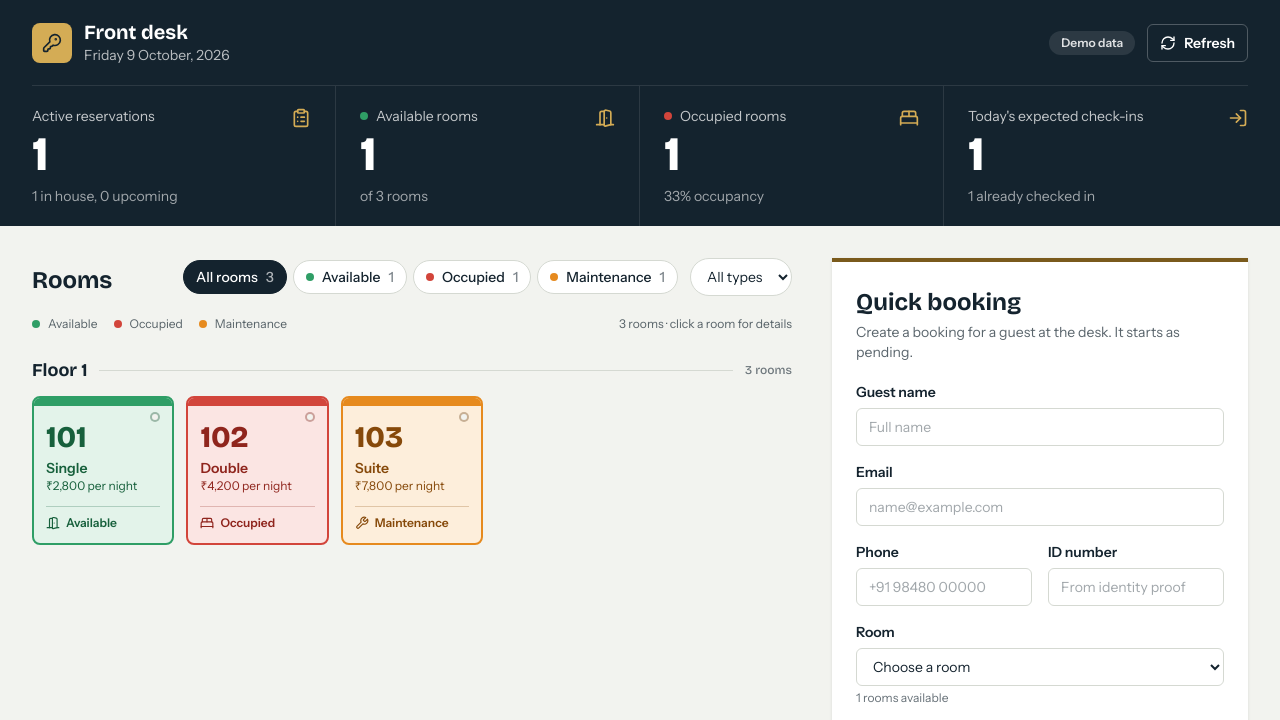
Test: front desk dashboard › filters rooms by availability and can clear the selection
The width and height of the screenshot is (1280, 720).
Expected: the button with aria-label "room 101, single, available" is shown, x1=32 y1=396 x2=174 y2=545
Click the button "Available 1".
click(350, 277)  # box x1=293 y1=260 x2=407 y2=294
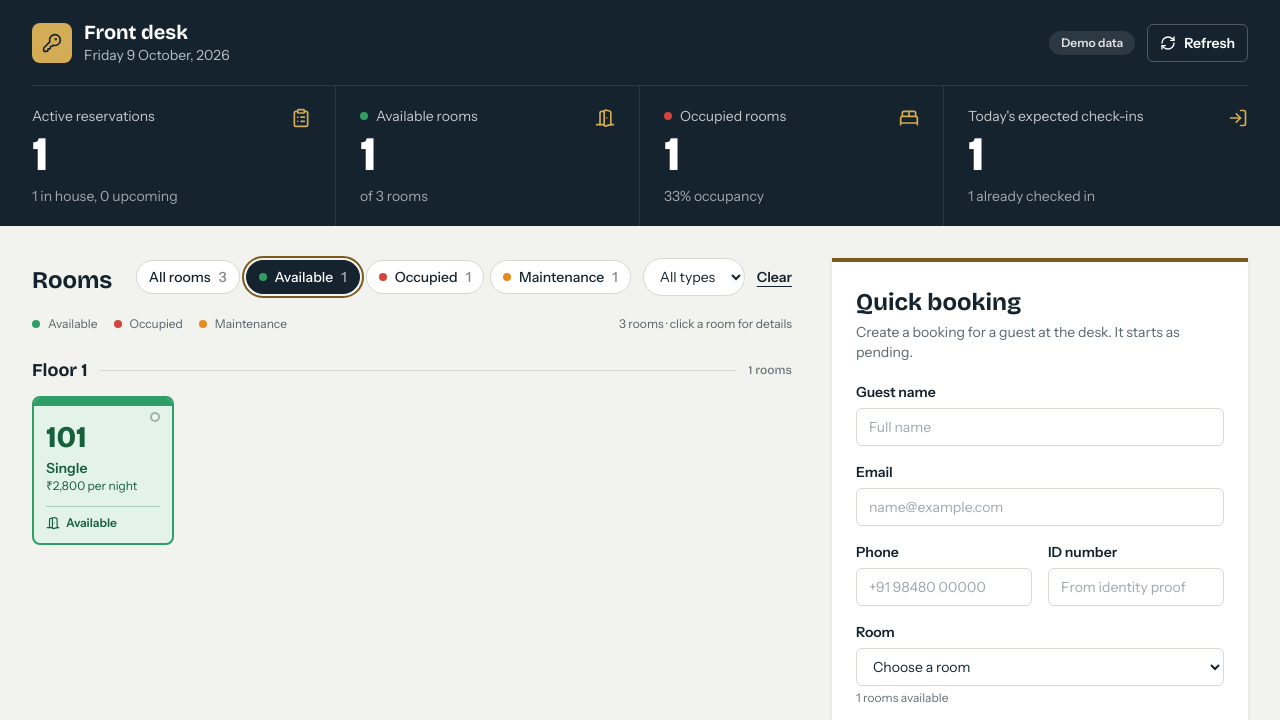
Expected: the button with aria-label "room 101, single, available" is shown, x1=32 y1=396 x2=174 y2=545
Click the button "All rooms 3".
click(188, 277)  # box x1=136 y1=260 x2=240 y2=294
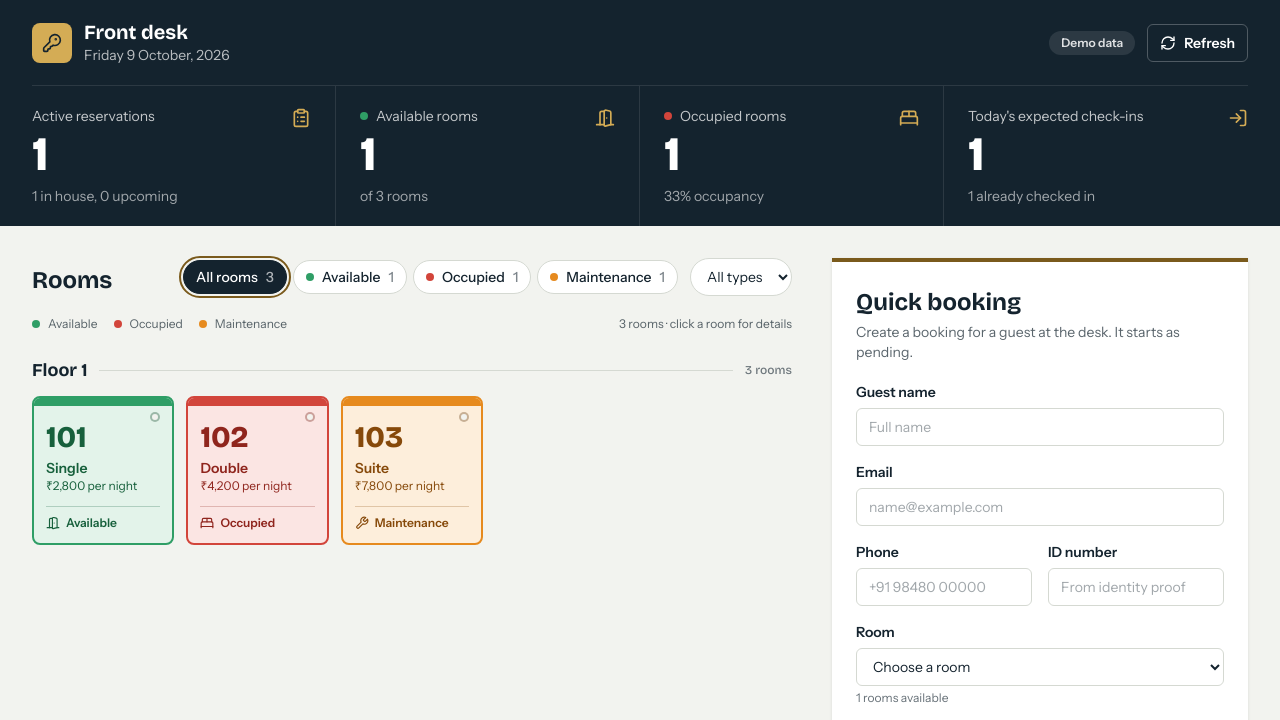
Expected: the button with aria-label "room 102" is shown, x1=186 y1=396 x2=329 y2=545
